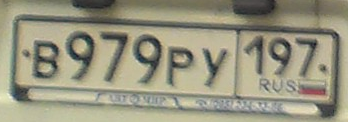character: (132, 31, 163, 87), (99, 26, 129, 83), (65, 27, 95, 81), (165, 43, 195, 90), (29, 37, 61, 80), (266, 32, 293, 78), (294, 32, 320, 79), (201, 48, 228, 93), (243, 33, 266, 79)
